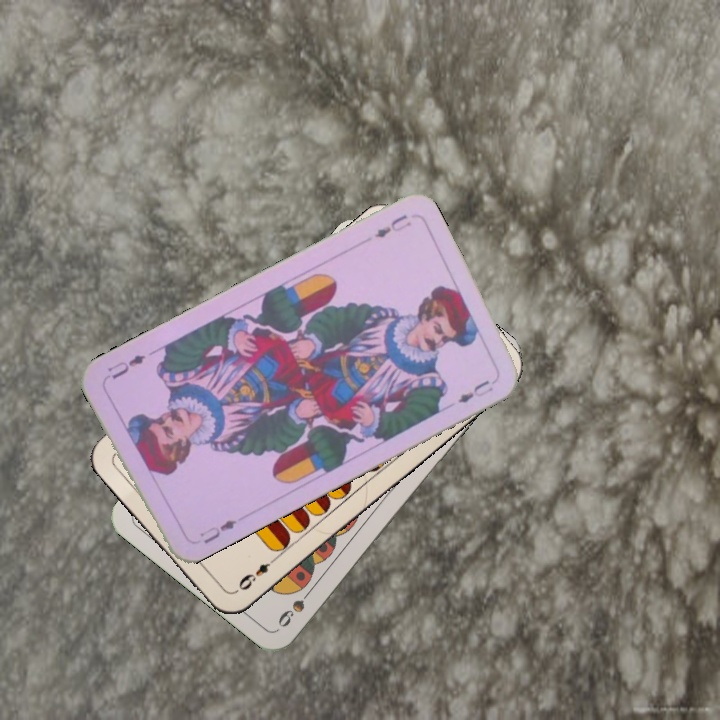E9: (230, 553, 279, 596)
EU: (195, 515, 239, 547), (371, 210, 414, 241)
S9: (273, 581, 318, 630)
